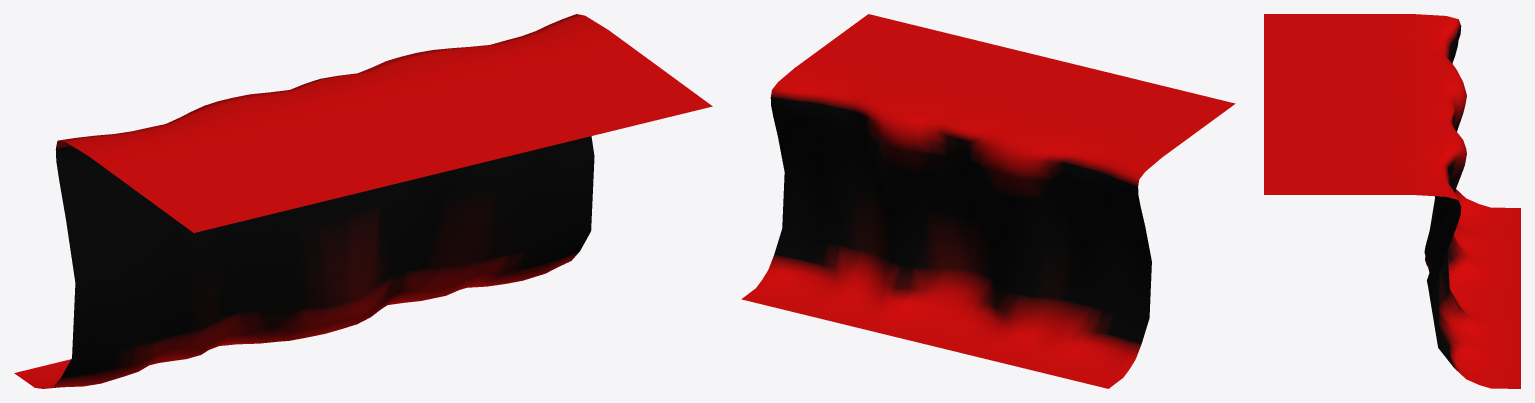
The model's file is GroundCliff01A 1M Foreground.fbx.
The picture shows the model from 3 angles, left to right: view 1: azimuth 30°, elevation 25°; view 2: azimuth 150°, elevation 25°; view 3: azimuth 270°, elevation 25°; orthographic projection. The views are drawn at different scales.
Parts seen in each view (by area): view 1: GroundCliff01A 1M Foreground; view 2: GroundCliff01A 1M Foreground; view 3: GroundCliff01A 1M Foreground.
Boxes of the visible parts, x1,y1,x2,y2 form: GroundCliff01A 1M Foreground: (14, 14, 712, 388); GroundCliff01A 1M Foreground: (741, 14, 1235, 388); GroundCliff01A 1M Foreground: (1264, 14, 1520, 388).
Size of the model in its own units: 2 by 1 by 1.2.
